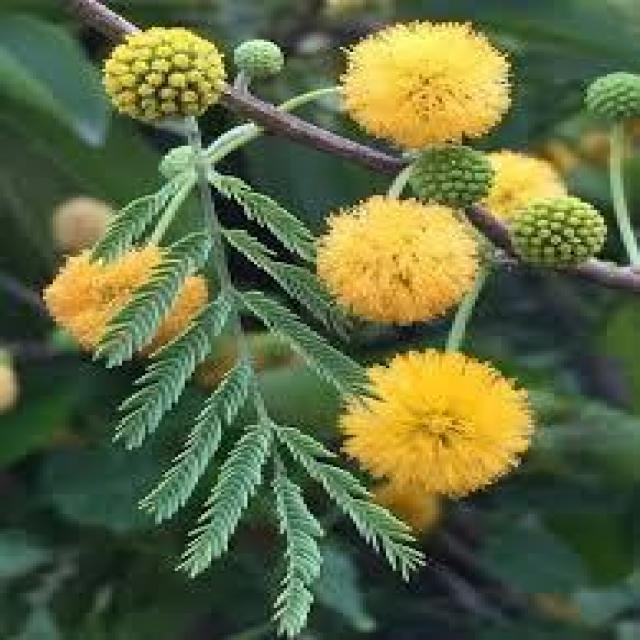organic waste: (327, 354, 564, 528), (302, 205, 496, 309), (345, 30, 506, 143)
